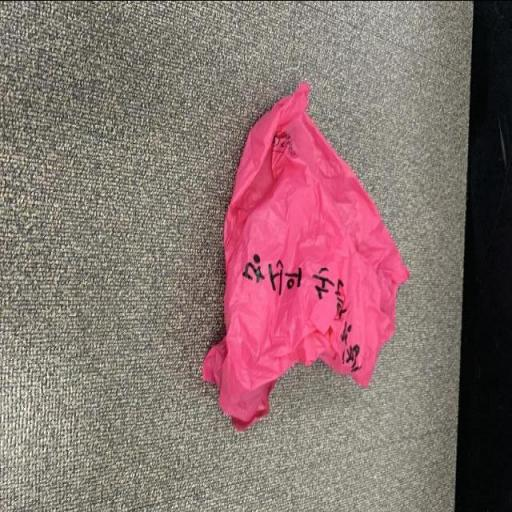plastic-bag: (198, 79, 410, 434)
